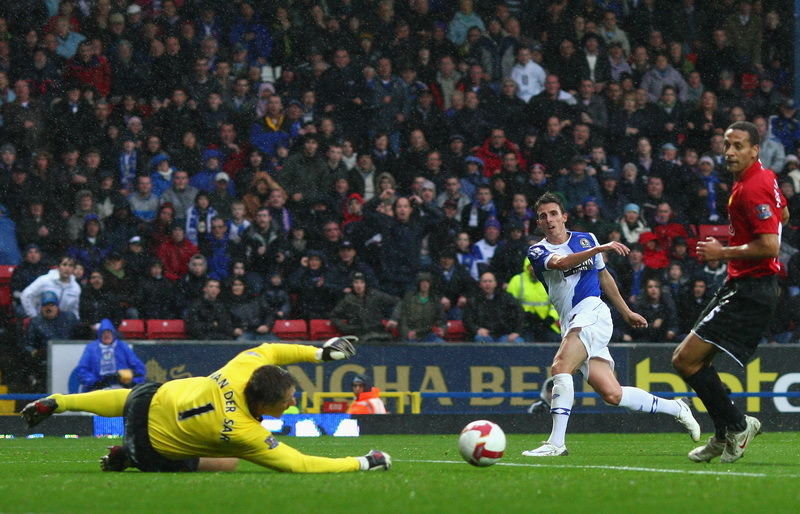10+: (2, 4, 800, 460)
down: (17, 326, 399, 481)
